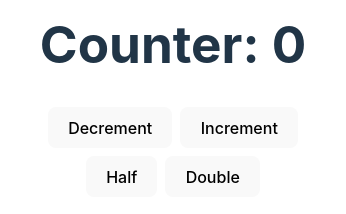
Test case: Component: Counter › should half the counter correctly
The image size is (346, 214).
Expected: the heading with test id "counter" reads "Counter: 0", [40,16,306,73]
Click the button with test id "increment-button" at (239, 128), box [180,107,298,148]
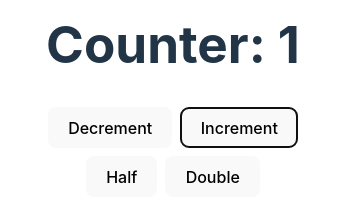
Now the heading with test id "counter" reads "Counter: 1", box [46,16,300,73]
Click the button with test id "half-button" at (122, 177), box [86,156,158,197]
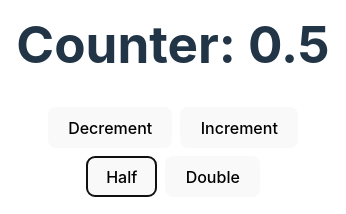
Now the heading with test id "counter" reads "Counter: 0.5", box [16,16,330,73]
